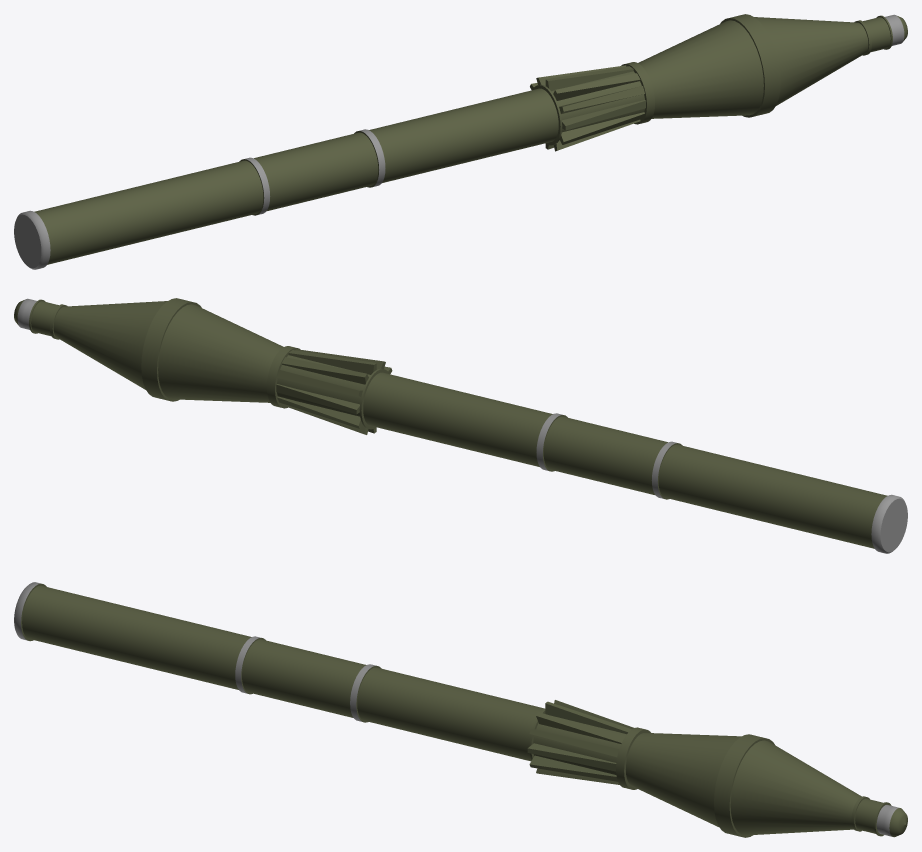
Rendered from Rocket.fbx.
The picture shows the model from 3 angles, top to bottom: view 1: azimuth 30°, elevation 25°; view 2: azimuth 150°, elevation 25°; view 3: azimuth 330°, elevation 25°; orthographic projection.
Parts seen in each view (by area): view 1: fuse; view 2: fuse; view 3: fuse.
Part boxes in pixels (x1,y1,x2,y2): fuse: (14, 14, 907, 269); fuse: (14, 298, 907, 553); fuse: (14, 582, 907, 837).
Size of the model in its own units: 447 by 45.01 by 45.01.
